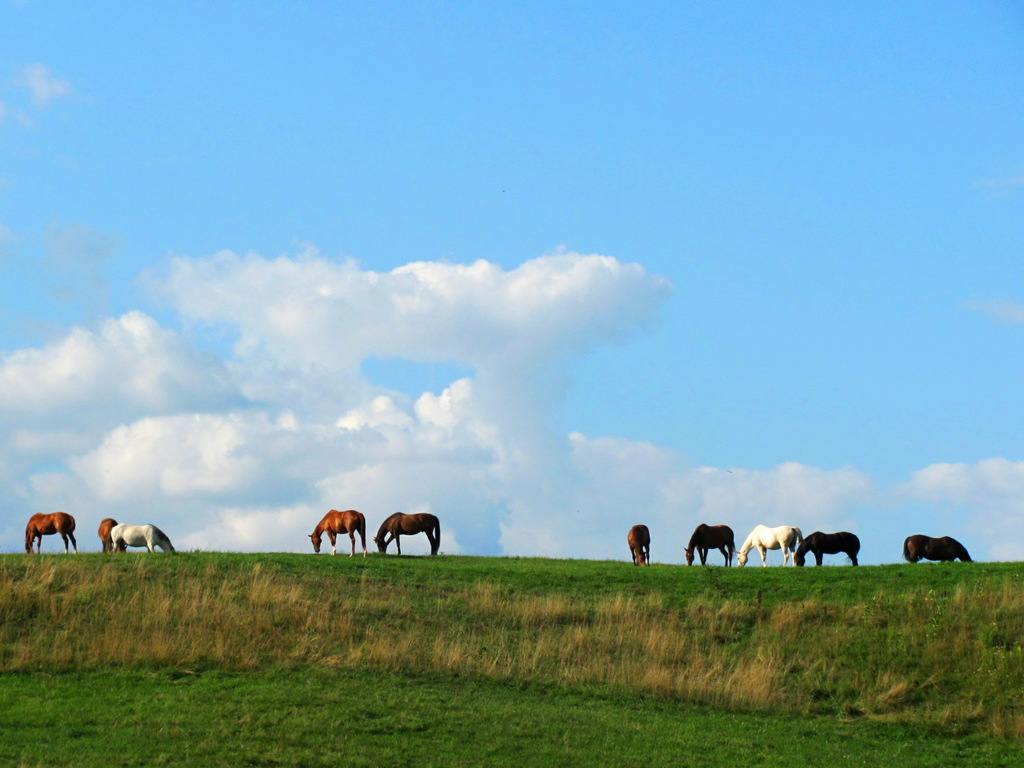horse: (375, 510, 440, 558), (307, 511, 368, 557), (795, 529, 862, 568), (24, 515, 76, 558), (684, 524, 734, 567), (903, 535, 970, 563), (112, 526, 177, 550), (629, 525, 652, 563)
